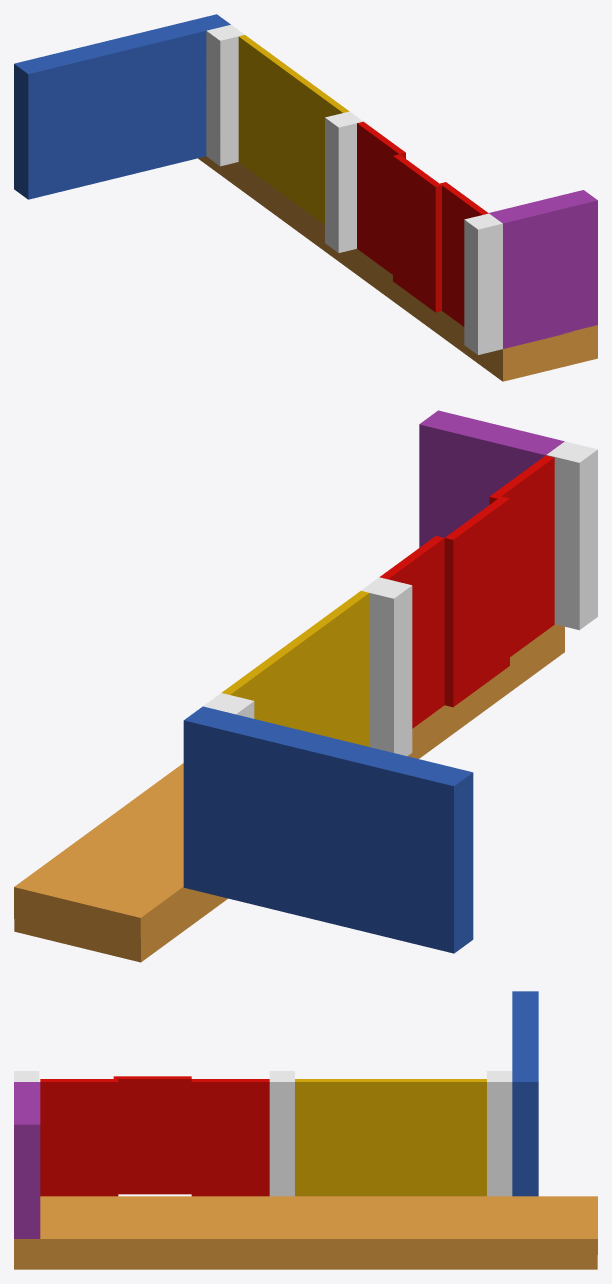
The model's file is Blocky_NorthRooms.fbx.
3 views of the same model, one above another, from view 1: azimuth 30°, elevation 25°; view 2: azimuth 150°, elevation 25°; view 3: azimuth 270°, elevation 25° (orthographic). The views are drawn at different scales.
Visible parts, largest first — view 1: MUR_3.018, Module_06.001, Cube.647, Module_020.001, Cube.644, Cube.646, Cube.643, Cube.649, Cube.648, Cube.645; view 2: MUR_3.018, Module_020.001, Cube.647, Cube.644, Module_06.001, Cube.645, Cube.646, Cube.648, Cube.643, Cube.649; view 3: Module_020.001, Cube.647, Cube.643, Cube.645, Cube.644, MUR_3.018, Module_06.001, Cube.648, Cube.649.
Part boxes in pixels (<box>): MUR_3.018: <box>14,14,230,199</box>; Module_06.001: <box>489,190,597,348</box>; Cube.647: <box>238,35,349,224</box>; Module_020.001: <box>198,156,597,381</box>; Cube.644: <box>393,154,441,312</box>; Cube.646: <box>464,213,502,354</box>; Cube.643: <box>357,121,405,274</box>; Cube.649: <box>206,25,244,166</box>; Cube.648: <box>325,111,362,252</box>; Cube.645: <box>440,182,488,326</box>; MUR_3.018: <box>183,706,473,953</box>; Module_020.001: <box>14,624,564,962</box>; Cube.647: <box>221,591,369,746</box>; Cube.644: <box>444,496,509,707</box>; Module_06.001: <box>419,410,564,547</box>; Cube.645: <box>489,455,554,656</box>; Cube.646: <box>546,441,597,630</box>; Cube.648: <box>361,577,412,756</box>; Cube.643: <box>379,536,444,728</box>; Cube.649: <box>203,693,254,718</box>; Module_020.001: <box>14,1196,597,1269</box>; Cube.647: <box>295,1079,486,1196</box>; Cube.643: <box>191,1079,269,1196</box>; Cube.645: <box>40,1079,118,1196</box>; Cube.644: <box>113,1076,191,1194</box>; MUR_3.018: <box>512,991,538,1196</box>; Module_06.001: <box>14,1082,40,1238</box>; Cube.648: <box>269,1071,294,1196</box>; Cube.649: <box>487,1071,512,1196</box>.
Size of the model in its own units: 1423 by 722 by 2634.
